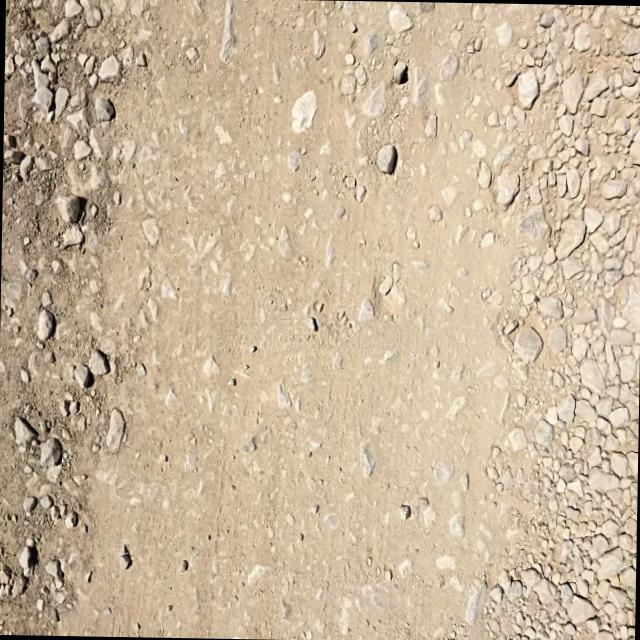suelo_compacto: (106, 146, 520, 559)
